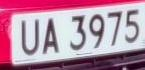3: (69, 10, 89, 56)
5: (123, 6, 142, 48)
7: (105, 8, 126, 50)
9: (88, 11, 108, 52)
A: (41, 13, 62, 61)
U: (19, 16, 42, 60)
